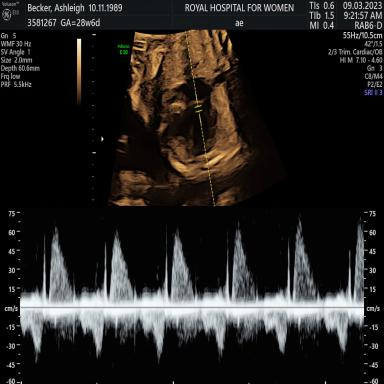Ultrasound-Waves: (26, 210, 363, 384)
